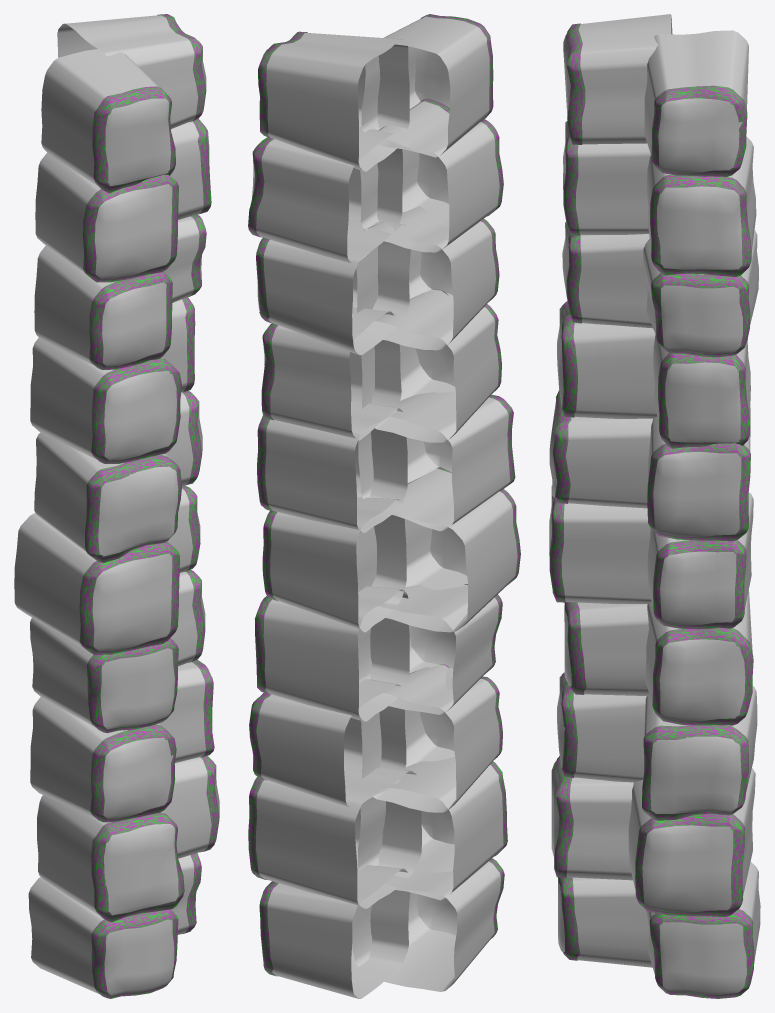
Rendered from SM_planksCorner_a1.fbx.
The picture shows the model from 3 angles, left to right: view 1: azimuth 30°, elevation 25°; view 2: azimuth 150°, elevation 25°; view 3: azimuth 270°, elevation 25°; orthographic projection. The views are drawn at different scales.
Parts seen in each view (by area): view 1: SM_planksCorner_a1_LOD0; view 2: SM_planksCorner_a1_LOD0; view 3: SM_planksCorner_a1_LOD0.
Boxes of the visible parts, box(x1,y1,x2,y2) form: SM_planksCorner_a1_LOD0: box(14, 14, 219, 998); SM_planksCorner_a1_LOD0: box(248, 14, 520, 998); SM_planksCorner_a1_LOD0: box(549, 14, 760, 998).
Size of the model in its own units: 54.39 by 52.04 by 253.
3 materials, 1 textured.
